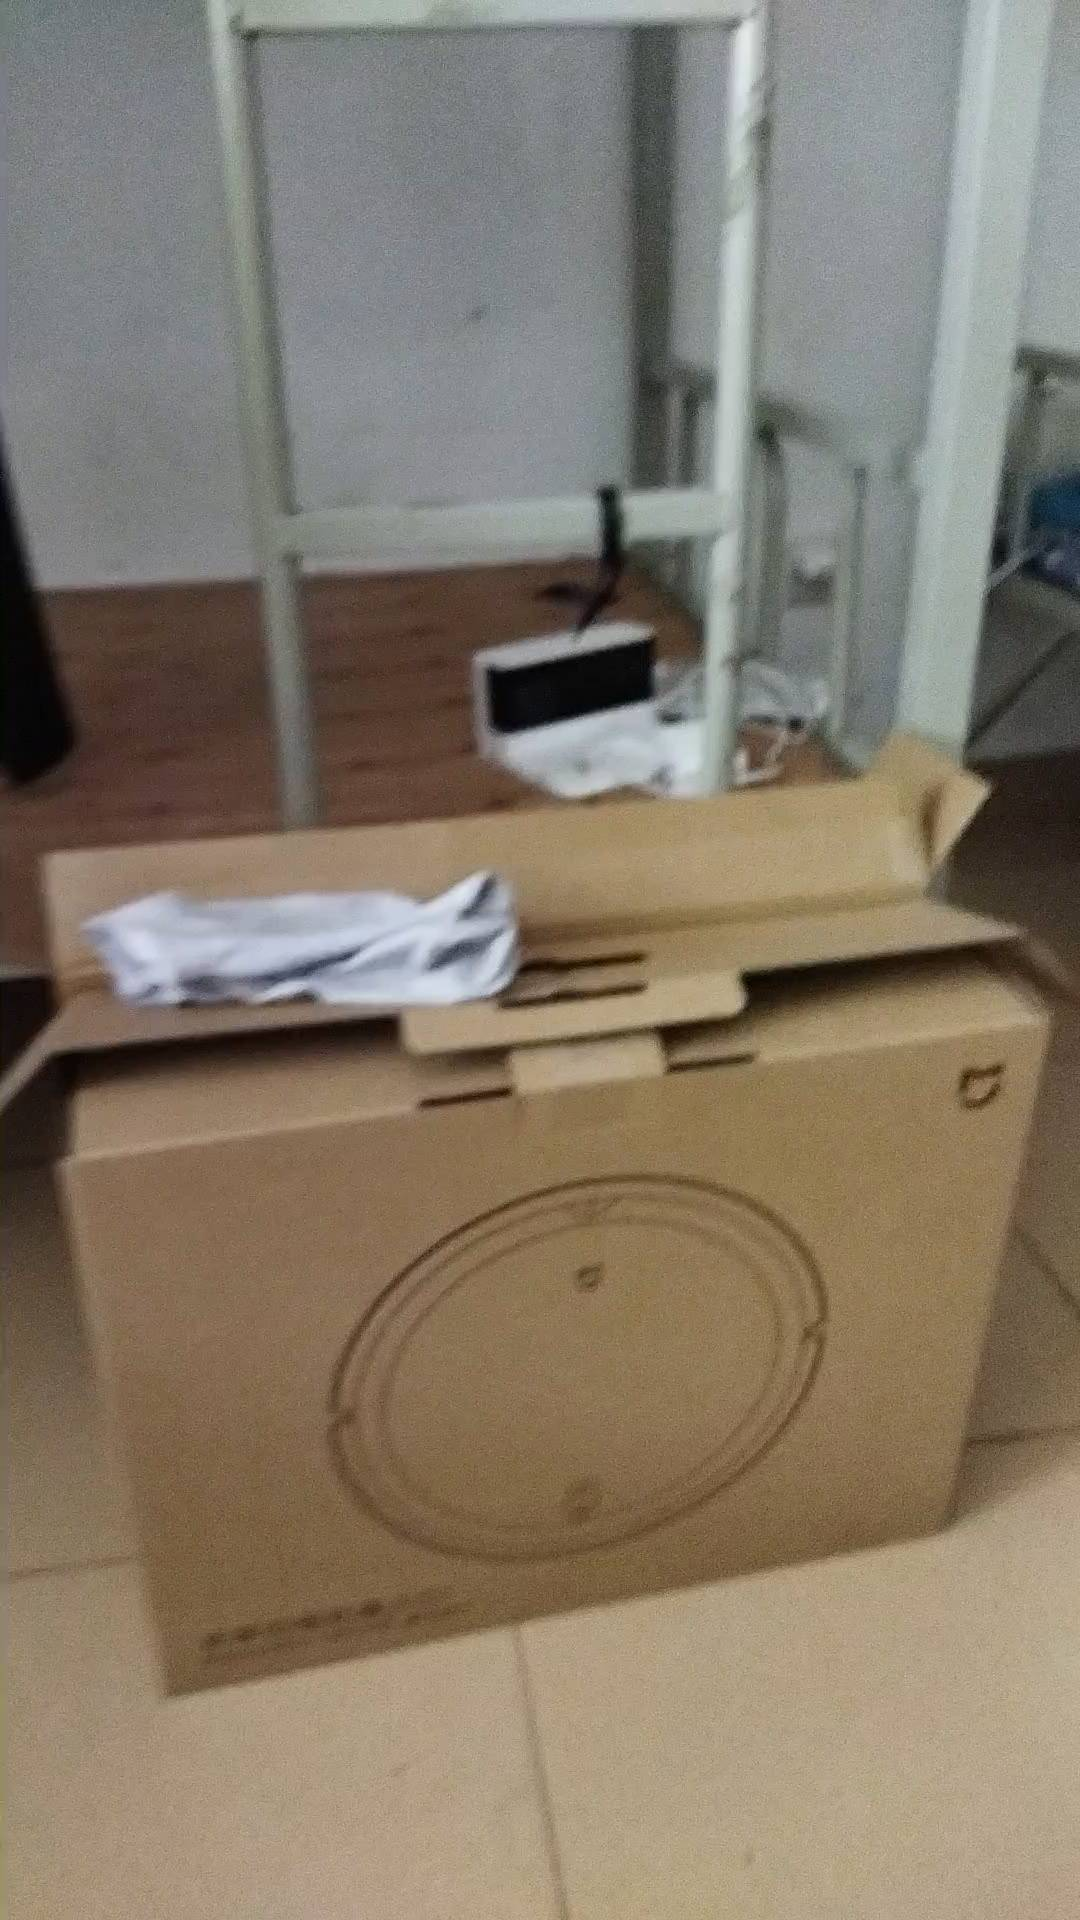recharge seat: (469, 620, 674, 800)
